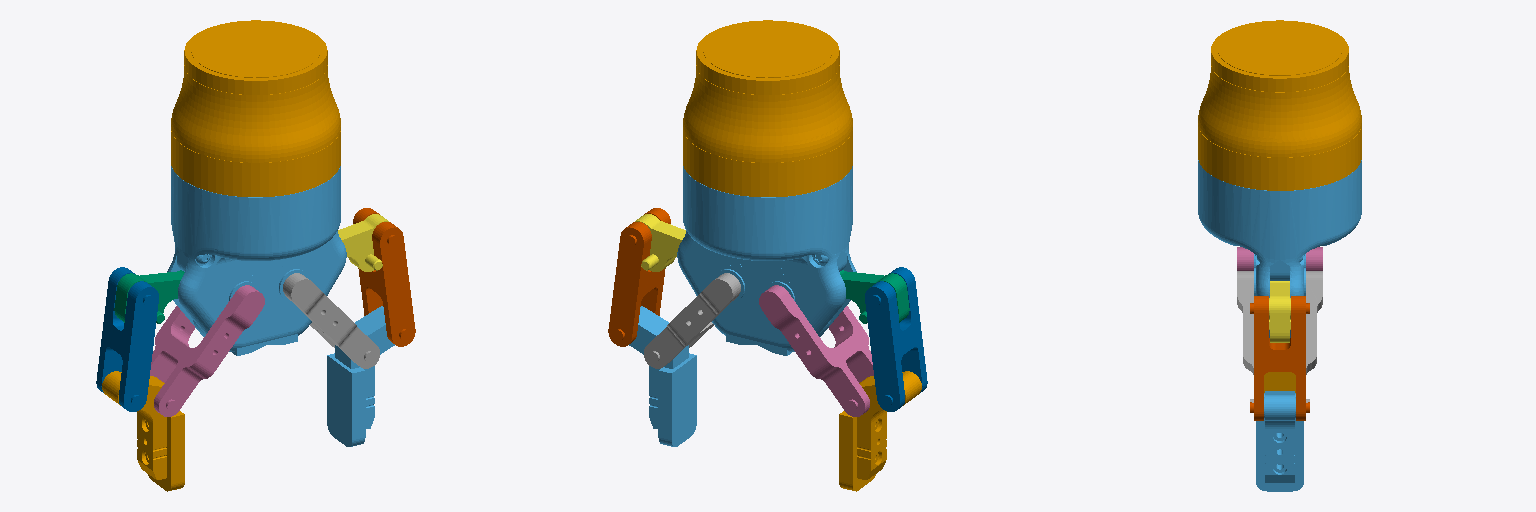
URDF robot description (robotiq85_gripper):
<?xml version="1.0" ?>
<!-- =================================================================================== -->
<!-- |    This document was autogenerated by xacro from robotiq_85_gripper_standalone.urdf.xacro | -->
<!-- |    EDITING THIS FILE BY HAND IS NOT RECOMMENDED                                 | -->
<!-- =================================================================================== -->
<robot name="robotiq85_gripper" xmlns:drake="http://drake.mit.edu" xmlns:xacro="http://ros.org/wiki/xacro">
  <link name="robotiq_coupler_link">
    <visual>
      <geometry>
        <mesh filename="package://movo_description/meshes/manipulation/robotiq/visual/kinova_robotiq_coupler.obj"/>
      </geometry>
    </visual>
    <collision>
      <geometry>
        <mesh filename="package://movo_description/meshes/manipulation/robotiq/collision/kinova_robotiq_coupler.obj"/>
      </geometry>
    </collision>
    <inertial>
      <mass value="0.1"/>
      <origin xyz="0.0 0.0 0.0"/>
      <inertia ixx="0.000001" ixy="0.000000" ixz="0.000000" iyx="0.000000" iyy="0.000001" iyz="0.000000" izx="0.000000" izy="0.000000" izz="0.000001"/>
    </inertial>
  </link>
  <gazebo reference="robotiq_coupler_link">
    <implicitSpringDamper>1</implicitSpringDamper>
    <mu1>100000</mu1>
    <mu2>100000</mu2>
    <kp>100000000.0</kp>
    <kd>1.0</kd>
  </gazebo>
  <joint name="gripper_base_joint" type="fixed">
    <parent link="robotiq_coupler_link"/>
    <child link="gripper_base_link"/>
    <origin rpy="-1.570795 1.570795 0.0" xyz="0 0 -0.05105"/>
  </joint>
  <link name="gripper_base_link">
    <visual>
      <geometry>
        <mesh filename="package://movo_description/meshes/manipulation/robotiq/visual/robotiq_85_base_link.obj"/>
      </geometry>
    </visual>
    <collision>
      <geometry>
        <mesh filename="package://movo_description/meshes/manipulation/robotiq/collision/robotiq_85_base_link.obj"/>
      </geometry>
    </collision>
    <inertial>
      <mass value="0.636951"/>
      <origin xyz="0.0 0.0 0.0"/>
      <inertia ixx="0.000380" ixy="0.000000" ixz="0.000000" iyx="0.000000" iyy="0.001110" iyz="0.000000" izx="0.000000" izy="0.000000" izz="0.001171"/>
    </inertial>
  </link>
  <gazebo reference="gripper_base_link">
    <implicitSpringDamper>1</implicitSpringDamper>
    <mu1>100000</mu1>
    <mu2>100000</mu2>
    <kp>100000000.0</kp>
    <kd>1.0</kd>
  </gazebo>
  <joint name="gripper_finger1_joint" type="revolute">
    <parent link="gripper_base_link"/>
    <child link="gripper_finger1_knuckle_link"/>
    <axis xyz="0 0 1"/>
    <origin rpy="3.14159 0.0 0.0" xyz="0.05490451627 0.03060114443 0.0"/>
    <limit effort="1000" lower="0.0" upper="0.804" velocity="2.0"/>
  </joint>
  <joint name="gripper_finger2_joint" type="revolute">
    <parent link="gripper_base_link"/>
    <child link="gripper_finger2_knuckle_link"/>
    <axis xyz="0 0 1"/>
    <origin rpy="0.0 0.0 0.0" xyz="0.05490451627 -0.03060114443 0.0"/>
    <limit effort="1000" lower="-3.14" upper="3.14" velocity="100.0"/>
  </joint>
  <link name="gripper_finger1_knuckle_link">
    <visual>
      <geometry>
        <mesh filename="package://movo_description/meshes/manipulation/robotiq/visual/robotiq_85_knuckle_link.obj"/>
      </geometry>
    </visual>
    <collision>
      <geometry>
        <mesh filename="package://movo_description/meshes/manipulation/robotiq/collision/robotiq_85_knuckle_link.obj"/>
      </geometry>
    </collision>
    <inertial>
      <mass value="0.018491"/>
      <origin xyz="0.0 0.0 0.0"/>
      <inertia ixx="0.000009" ixy="-0.000001" ixz="0.000000" iyx="-0.000001" iyy="0.000001" iyz="0.000000" izx="0.000000" izy="0.000000" izz="0.000010"/>
    </inertial>
  </link>
  <gazebo reference="gripper_finger1_knuckle_link">
    <implicitSpringDamper>1</implicitSpringDamper>
    <mu1>100000</mu1>
    <mu2>100000</mu2>
    <kp>100000000.0</kp>
    <kd>1.0</kd>
  </gazebo>
  <link name="gripper_finger2_knuckle_link">
    <visual>
      <geometry>
        <mesh filename="package://movo_description/meshes/manipulation/robotiq/visual/robotiq_85_knuckle_link.obj"/>
      </geometry>
    </visual>
    <collision>
      <geometry>
        <mesh filename="package://movo_description/meshes/manipulation/robotiq/collision/robotiq_85_knuckle_link.obj"/>
      </geometry>
    </collision>
    <inertial>
      <mass value="0.018491"/>
      <origin xyz="0.0 0.0 0.0"/>
      <inertia ixx="0.000009" ixy="-0.000001" ixz="0.000000" iyx="-0.000001" iyy="0.000001" iyz="0.000000" izx="0.000000" izy="0.000000" izz="0.000010"/>
    </inertial>
  </link>
  <gazebo reference="gripper_finger2_knuckle_link">
    <implicitSpringDamper>1</implicitSpringDamper>
    <mu1>100000</mu1>
    <mu2>100000</mu2>
    <kp>100000000.0</kp>
    <kd>1.0</kd>
  </gazebo>
  <joint name="gripper_finger1_finger_joint" type="fixed">
    <parent link="gripper_finger1_knuckle_link"/>
    <child link="gripper_finger1_finger_link"/>
    <origin rpy="0 0 0" xyz="-0.00408552455 -0.03148604435 0.0"/>
  </joint>
  <joint name="gripper_finger2_finger_joint" type="fixed">
    <parent link="gripper_finger2_knuckle_link"/>
    <child link="gripper_finger2_finger_link"/>
    <origin rpy="0 0 0" xyz="-0.00408552455 -0.03148604435 0.0"/>
  </joint>
  <link name="gripper_finger1_finger_link">
    <visual>
      <geometry>
        <mesh filename="package://movo_description/meshes/manipulation/robotiq/visual/robotiq_85_finger_link.obj"/>
      </geometry>
    </visual>
    <collision>
      <geometry>
        <mesh filename="package://movo_description/meshes/manipulation/robotiq/collision/robotiq_85_finger_link.obj"/>
      </geometry>
    </collision>
    <inertial>
      <mass value="0.027309"/>
      <origin xyz="0.0 0.0 0.0"/>
      <inertia ixx="0.000003" ixy="-0.000002" ixz="0.000000" iyx="-0.000002" iyy="0.000021" iyz="0.000000" izx="0.000000" izy="0.000000" izz="0.000020"/>
    </inertial>
  </link>
  <gazebo reference="gripper_finger1_finger_link">
    <implicitSpringDamper>1</implicitSpringDamper>
    <mu1>100000</mu1>
    <mu2>100000</mu2>
    <kp>100000000.0</kp>
    <kd>1.0</kd>
  </gazebo>
  <link name="gripper_finger2_finger_link">
    <visual>
      <geometry>
        <mesh filename="package://movo_description/meshes/manipulation/robotiq/visual/robotiq_85_finger_link.obj"/>
      </geometry>
    </visual>
    <collision>
      <geometry>
        <mesh filename="package://movo_description/meshes/manipulation/robotiq/collision/robotiq_85_finger_link.obj"/>
      </geometry>
    </collision>
    <inertial>
      <mass value="0.027309"/>
      <origin xyz="0.0 0.0 0.0"/>
      <inertia ixx="0.000003" ixy="-0.000002" ixz="0.000000" iyx="-0.000002" iyy="0.000021" iyz="0.000000" izx="0.000000" izy="0.000000" izz="0.000020"/>
    </inertial>
  </link>
  <gazebo reference="gripper_finger2_finger_link">
    <implicitSpringDamper>1</implicitSpringDamper>
    <mu1>100000</mu1>
    <mu2>100000</mu2>
    <kp>100000000.0</kp>
    <kd>1.0</kd>
  </gazebo>
  <joint name="gripper_finger1_inner_knuckle_joint" type="revolute">
    <parent link="gripper_base_link"/>
    <child link="gripper_finger1_inner_knuckle_link"/>
    <axis xyz="0 0 1"/>
    <origin rpy="3.14159 0.0 0.0" xyz="0.06142 0.0127 0"/>
    <limit effort="0.1" lower="-3.14" upper="3.14" velocity="100.0"/>
  </joint>
  <joint name="gripper_finger2_inner_knuckle_joint" type="revolute">
    <parent link="gripper_base_link"/>
    <child link="gripper_finger2_inner_knuckle_link"/>
    <axis xyz="0 0 1"/>
    <origin rpy="0 0 0" xyz="0.06142 -0.0127 0"/>
    <limit effort="0.1" lower="-3.14" upper="3.14" velocity="100.0"/>
  </joint>
  <link name="gripper_finger1_inner_knuckle_link">
    <visual>
      <geometry>
        <mesh filename="package://movo_description/meshes/manipulation/robotiq/visual/robotiq_85_inner_knuckle_link.obj"/>
      </geometry>
    </visual>
    <!--
            <collision>
                <geometry>
                    <mesh filename="package://movo_description/meshes/manipulation/robotiq/collision/robotiq_85_inner_knuckle_link.obj"/>
                </geometry>
            </collision>
            -->
    <inertial>
      <mass value="0.029951"/>
      <origin xyz="0.0 0.0 0.0"/>
      <inertia ixx="0.000039" ixy="0.000000" ixz="0.000000" iyx="0.000000" iyy="0.000005" iyz="0.000000" izx="0.000000" izy="0.000000" izz="0.000035"/>
    </inertial>
  </link>
  <gazebo reference="gripper_finger1_inner_knuckle_link">
    <implicitSpringDamper>1</implicitSpringDamper>
    <mu1>100000</mu1>
    <mu2>100000</mu2>
    <kp>100000000.0</kp>
    <kd>1.0</kd>
  </gazebo>
  <link name="gripper_finger2_inner_knuckle_link">
    <visual>
      <geometry>
        <mesh filename="package://movo_description/meshes/manipulation/robotiq/visual/robotiq_85_inner_knuckle_link.obj"/>
      </geometry>
    </visual>
    <!--
            <collision>
                <geometry>
                    <mesh filename="package://movo_description/meshes/manipulation/robotiq/collision/robotiq_85_inner_knuckle_link.obj"/>
                </geometry>
            </collision>
            -->
    <inertial>
      <mass value="0.029951"/>
      <origin xyz="0.0 0.0 0.0"/>
      <inertia ixx="0.000039" ixy="0.000000" ixz="0.000000" iyx="0.000000" iyy="0.000005" iyz="0.000000" izx="0.000000" izy="0.000000" izz="0.000035"/>
    </inertial>
  </link>
  <gazebo reference="gripper_finger2_inner_knuckle_link">
    <implicitSpringDamper>1</implicitSpringDamper>
    <mu1>100000</mu1>
    <mu2>100000</mu2>
    <kp>100000000.0</kp>
    <kd>1.0</kd>
  </gazebo>
  <joint name="gripper_finger1_finger_tip_joint" type="revolute">
    <parent link="gripper_finger1_inner_knuckle_link"/>
    <child link="gripper_finger1_finger_tip_link"/>
    <axis xyz="0 0 1"/>
    <origin rpy="0.0 0.0 0.0" xyz="0.04303959807 -0.03759940821 0.0"/>
    <limit effort="0.1" lower="-3.14" upper="3.14" velocity="100.0"/>
  </joint>
  <joint name="gripper_finger2_finger_tip_joint" type="revolute">
    <parent link="gripper_finger2_inner_knuckle_link"/>
    <child link="gripper_finger2_finger_tip_link"/>
    <axis xyz="0 0 1"/>
    <origin rpy="0.0 0.0 0.0" xyz="0.04303959807 -0.03759940821  0.0"/>
    <limit effort="0.1" lower="-3.14" upper="3.14" velocity="100.0"/>
  </joint>
  <link name="gripper_finger1_finger_tip_link">
    <visual>
      <geometry>
        <mesh filename="package://movo_description/meshes/manipulation/robotiq/visual/robotiq_85_finger_tip_link.obj"/>
      </geometry>
    </visual>
    <collision>
      <!-- box for finger tip computed by measuring in blender -->
      <origin xyz="0.02575 0.004375 0"/>
      <geometry>
        <box size="0.0375 0.00675 0.022"/>
      </geometry>
      <drake:proximity_properties>
        <drake:mu_static value="1.0"/>
        <drake:mu_dynamic value="1.0"/>
        <drake:hydroelastic_modulus value="1.0e5"/>
        <drake:hunt_crossley_dissipation value="10.0"/>
        <drake:compliant_hydroelastic/>
      </drake:proximity_properties>
      <!--
                  <geometry>
                      <mesh filename="package://movo_description/meshes/manipulation/robotiq/collision/robotiq_85_finger_tip_link.obj"/>
                  </geometry>
                -->
    </collision>
    <inertial>
      <mass value="0.019555"/>
      <origin xyz="0.0 0.0 0.0"/>
      <inertia ixx="0.000002" ixy="0.000000" ixz="0.000000" iyx="0.000000" iyy="0.000005" iyz="0.000000" izx="0.000000" izy="0.000000" izz="0.000006"/>
    </inertial>
  </link>
  <gazebo reference="gripper_finger1_finger_tip_link">
    <implicitSpringDamper>1</implicitSpringDamper>
    <mu1>100000</mu1>
    <mu2>100000</mu2>
    <kp>100000000.0</kp>
    <kd>1.0</kd>
  </gazebo>
  <link name="gripper_finger2_finger_tip_link">
    <visual>
      <geometry>
        <mesh filename="package://movo_description/meshes/manipulation/robotiq/visual/robotiq_85_finger_tip_link.obj"/>
      </geometry>
    </visual>
    <collision>
      <!-- box for finger tip computed by measuring in blender -->
      <origin xyz="0.02575 0.004375 0"/>
      <geometry>
        <box size="0.0375 0.00675 0.022"/>
      </geometry>
      <drake:proximity_properties>
        <drake:mu_static value="1.0"/>
        <drake:mu_dynamic value="1.0"/>
        <drake:hydroelastic_modulus value="1.0e5"/>
        <drake:hunt_crossley_dissipation value="10.0"/>
        <drake:compliant_hydroelastic/>
      </drake:proximity_properties>
      <!--
                  <geometry>
                      <mesh filename="package://movo_description/meshes/manipulation/robotiq/collision/robotiq_85_finger_tip_link.obj"/>
                  </geometry>
                -->
    </collision>
    <inertial>
      <mass value="0.019555"/>
      <origin xyz="0.0 0.0 0.0"/>
      <inertia ixx="0.000002" ixy="0.000000" ixz="0.000000" iyx="0.000000" iyy="0.000005" iyz="0.000000" izx="0.000000" izy="0.000000" izz="0.000006"/>
    </inertial>
  </link>
  <gazebo reference="gripper_finger2_finger_tip_link">
    <implicitSpringDamper>1</implicitSpringDamper>
    <mu1>100000</mu1>
    <mu2>100000</mu2>
    <kp>100000000.0</kp>
    <kd>1.0</kd>
  </gazebo>
  <gazebo>
    <!-- loading plugin: mimic joints works in gazebo now -->
    <plugin filename="libroboticsgroup_gazebo_mimic_joint_plugin.so" name="mimic_robotiq_85_1">
      <joint>gripper_finger1_joint</joint>
      <mimicJoint>gripper_finger2_joint</mimicJoint>
      <!--multiplier>1.0</multiplier>
                <offset>0.0</offset-->
    </plugin>
    <plugin filename="libroboticsgroup_gazebo_mimic_joint_plugin.so" name="mimic_robotiq_85_2">
      <joint>gripper_finger1_joint</joint>
      <mimicJoint>gripper_finger2_inner_knuckle_joint</mimicJoint>
      <!--multiplier>1.0</multiplier>
                <offset>0.0</offset-->
    </plugin>
    <plugin filename="libroboticsgroup_gazebo_mimic_joint_plugin.so" name="mimic_robotiq_85_3">
      <joint>gripper_finger1_joint</joint>
      <mimicJoint>gripper_finger1_inner_knuckle_joint</mimicJoint>
      <!--multiplier>1.0</multiplier>
                <offset>0.0</offset-->
    </plugin>
    <plugin filename="libroboticsgroup_gazebo_mimic_joint_plugin.so" name="mimic_robotiq_85_4">
      <joint>gripper_finger1_joint</joint>
      <mimicJoint>gripper_finger1_finger_tip_joint</mimicJoint>
      <multiplier>-1.0</multiplier>
      <offset>0.0</offset>
    </plugin>
    <plugin filename="libroboticsgroup_gazebo_mimic_joint_plugin.so" name="mimic_robotiq_85_5">
      <joint>gripper_finger1_joint</joint>
      <mimicJoint>gripper_finger2_finger_tip_joint</mimicJoint>
      <multiplier>-1.0</multiplier>
      <offset>0.0</offset>
    </plugin>
  </gazebo>
  <drake:collision_filter_group name="finger_1">
    <drake:member link="gripper_finger1_finger_link"/>
    <drake:member link="gripper_finger1_inner_knuckle_link"/>
    <drake:member link="gripper_finger1_knuckle_link"/>
    <drake:member link="gripper_finger1_finger_tip_link"/>
    <drake:ignored_collision_filter_group name="finger_1"/>
  </drake:collision_filter_group>
  <drake:collision_filter_group name="finger_2">
    <drake:member link="gripper_finger2_finger_link"/>
    <drake:member link="gripper_finger2_inner_knuckle_link"/>
    <drake:member link="gripper_finger2_knuckle_link"/>
    <drake:member link="gripper_finger2_finger_tip_link"/>
    <drake:ignored_collision_filter_group name="finger_2"/>
  </drake:collision_filter_group>
</robot>

--- Render facts (derived) ---
The picture shows the robot from 3 angles, left to right: view 1: azimuth 30°, elevation 25°; view 2: azimuth 150°, elevation 25°; view 3: azimuth 270°, elevation 25°; orthographic projection.
Model robotiq85_gripper with 10 links and 9 joints (6 revolute, 3 fixed), rooted at robotiq_coupler_link, posed all joints at 0.
Visible links, largest first — view 1: robotiq_coupler_link, gripper_base_link, gripper_finger1_inner_knuckle_link, gripper_finger1_finger_link, gripper_finger2_finger_tip_link, gripper_finger2_finger_link, gripper_finger1_finger_tip_link, gripper_finger2_inner_knuckle_link, gripper_finger1_knuckle_link, gripper_finger2_knuckle_link; view 2: robotiq_coupler_link, gripper_base_link, gripper_finger1_inner_knuckle_link, gripper_finger1_finger_link, gripper_finger2_finger_tip_link, gripper_finger2_finger_link, gripper_finger1_finger_tip_link, gripper_finger2_inner_knuckle_link, gripper_finger1_knuckle_link, gripper_finger2_knuckle_link; view 3: robotiq_coupler_link, gripper_base_link, gripper_finger2_finger_tip_link, gripper_finger2_finger_link, gripper_finger2_inner_knuckle_link, gripper_finger2_knuckle_link, gripper_finger1_inner_knuckle_link, gripper_finger1_finger_tip_link.
Boxes of the visible links, x1,y1,x2,y2 form: robotiq_coupler_link: [171, 20, 340, 196]; gripper_base_link: [167, 166, 346, 355]; gripper_finger1_inner_knuckle_link: [150, 285, 264, 416]; gripper_finger1_finger_link: [96, 267, 158, 411]; gripper_finger2_finger_tip_link: [327, 306, 394, 446]; gripper_finger2_finger_link: [353, 208, 415, 346]; gripper_finger1_finger_tip_link: [102, 371, 184, 491]; gripper_finger2_inner_knuckle_link: [283, 273, 379, 368]; gripper_finger1_knuckle_link: [114, 270, 184, 323]; gripper_finger2_knuckle_link: [338, 214, 388, 271]; robotiq_coupler_link: [683, 20, 852, 196]; gripper_base_link: [677, 166, 856, 355]; gripper_finger1_inner_knuckle_link: [759, 285, 873, 416]; gripper_finger1_finger_link: [865, 267, 927, 411]; gripper_finger2_finger_tip_link: [629, 306, 696, 446]; gripper_finger2_finger_link: [608, 208, 670, 346]; gripper_finger1_finger_tip_link: [839, 371, 921, 491]; gripper_finger2_inner_knuckle_link: [644, 273, 740, 368]; gripper_finger1_knuckle_link: [840, 270, 909, 323]; gripper_finger2_knuckle_link: [635, 214, 685, 271]; robotiq_coupler_link: [1198, 20, 1361, 190]; gripper_base_link: [1198, 160, 1361, 337]; gripper_finger2_finger_tip_link: [1256, 391, 1303, 491]; gripper_finger2_finger_link: [1250, 296, 1309, 420]; gripper_finger2_inner_knuckle_link: [1237, 271, 1322, 402]; gripper_finger2_knuckle_link: [1269, 281, 1290, 342]; gripper_finger1_inner_knuckle_link: [1237, 247, 1322, 270]; gripper_finger1_finger_tip_link: [1264, 372, 1295, 392].
Size in the robot's own frame: 0.1484 by 0.075 by 0.2 metres.
10 mesh visuals loaded from 6 distinct referenced files (6 OBJ).
